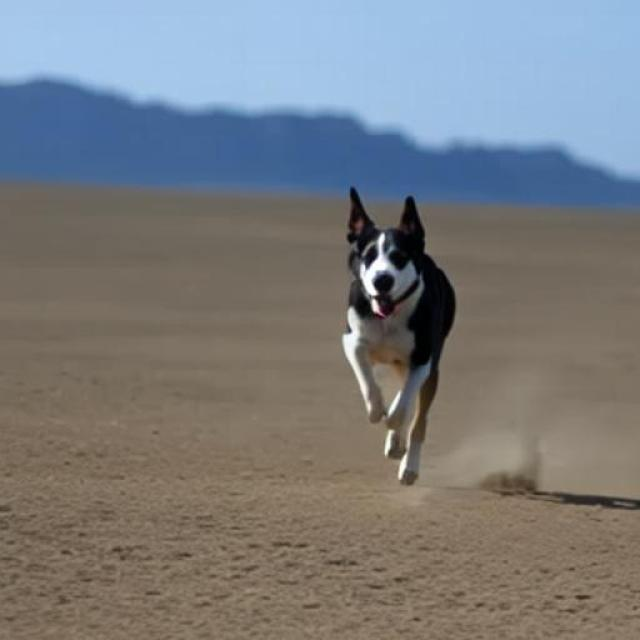Dog: (342, 188, 456, 486)
